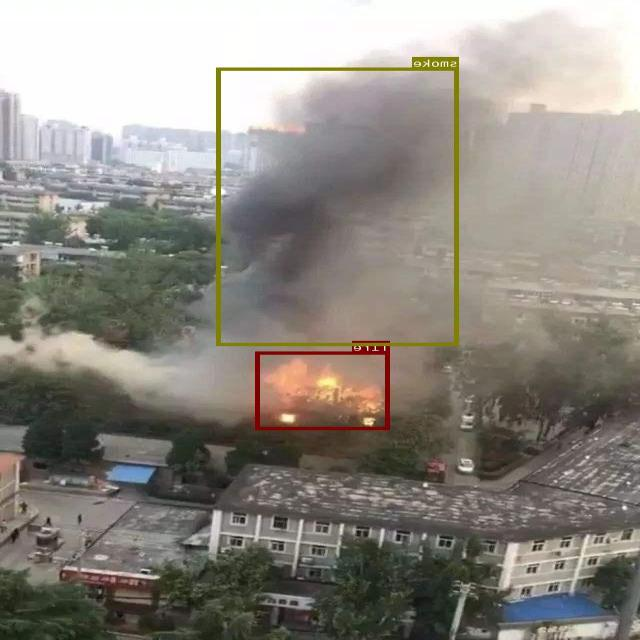fire: (257, 351, 391, 429)
smoke: (218, 67, 460, 345)
